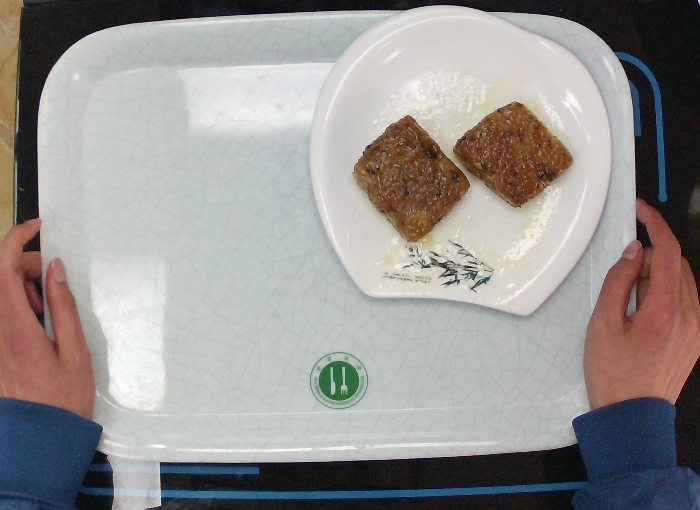JYsf-Mian_Pan: (309, 1, 615, 319)
